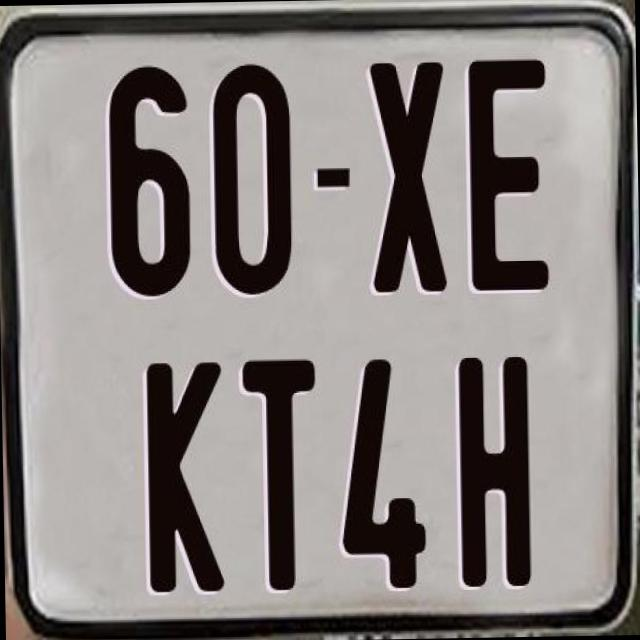0: (208, 60, 294, 292)
4: (336, 355, 424, 595)
6: (105, 64, 189, 300)
E: (466, 55, 549, 287)
H: (458, 357, 536, 591)
K: (144, 359, 224, 592)
T: (240, 355, 324, 588)
X: (368, 58, 452, 294)
